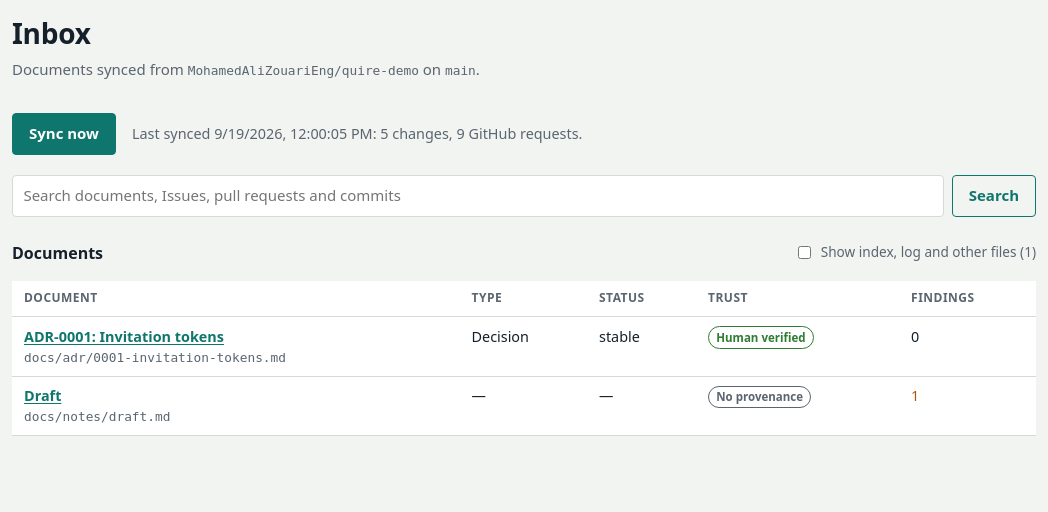
Test: InboxPanel › lists concepts with type, trust tier and findings
Expected: the button "ADR-0001: Invitation tokens" is shown, [24,326,224,348]
Expected: the text "Human verified" is shown, [708,326,814,349]
Step 1. Click the checkbox labelled "Show index, log and other files (1)" → coordinates (805, 252), box [798,246,811,259]
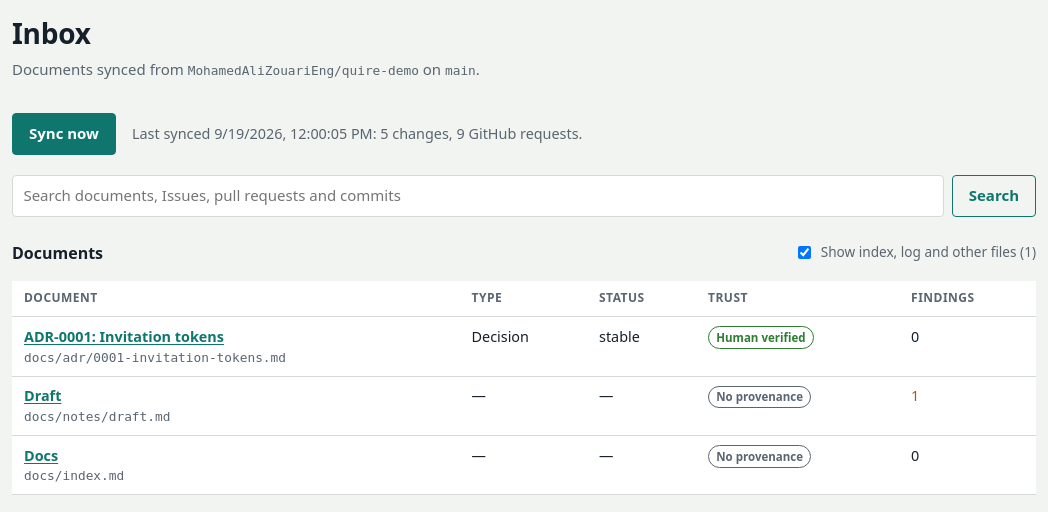
Expected: the text "Last synced 9/19/2026, 12:00:05 PM: 5 changes, 9 GitHub requests." is shown, [132,123,582,144]
Now the button "Docs" is shown, box [24,445,58,466]
